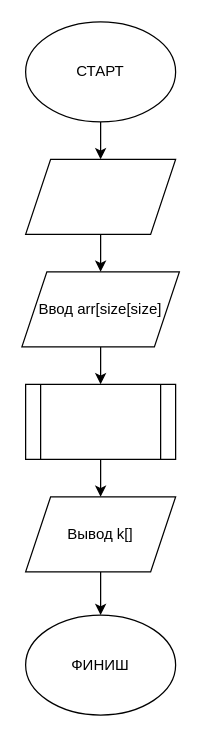
Some shapes in this 201 by 738 pixel diagram are drawn without their labels. Here are the shapes that lost their labels. From the top down, the centre of each, then its label:
(100,196): Ввод size
(100,421): k = toAray(arr)
